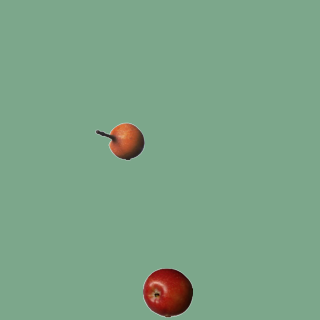Apple Braeburn: (142, 267, 192, 317)
Granadilla: (94, 116, 144, 166)
